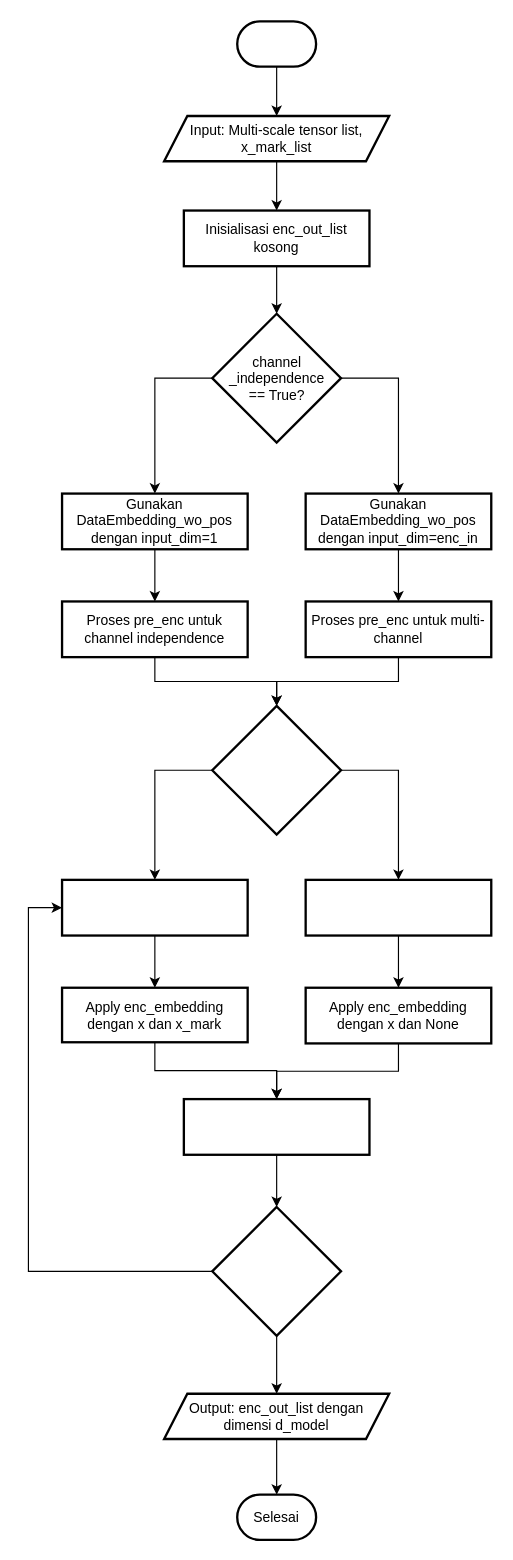
Some shapes in this 513 by 1560 pixel diagram are drawn without their labels. Each missing label, with the centre of its shape:
Loop untuk setiap scale: x saja: the point at 398,907
Loop untuk setiap scale: x, x_mark: the point at 154,907
Masih ada scale lain?: the point at 276,1270
Mulai: the point at 276,43
Tambahkan hasil ke enc_out_list: the point at 276,1126
x_mark tersedia?: the point at 276,769
